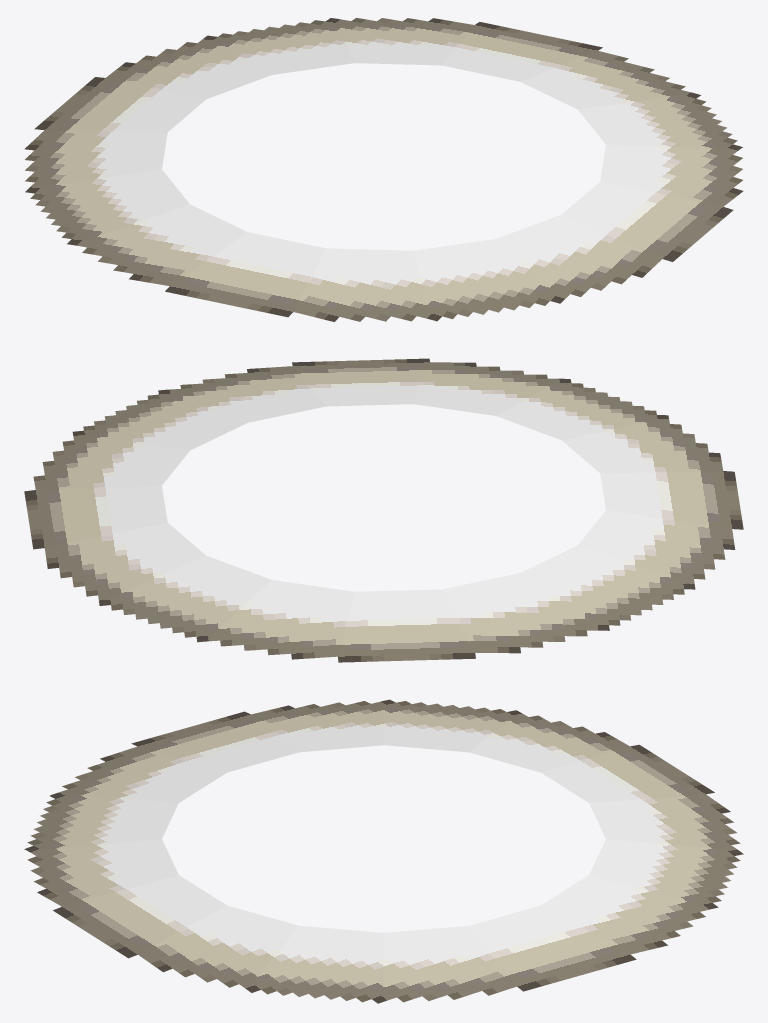
The model's file is psx_pickup_marker.glb.
3 renders of one model, top to bottom at view 1: azimuth 30°, elevation 25°; view 2: azimuth 150°, elevation 25°; view 3: azimuth 270°, elevation 25°, orthographic.
Parts seen in each view (by area): view 1: pickup_marker; view 2: pickup_marker; view 3: pickup_marker.
Boxes of the visible parts, x1,y1,x2,y2 form: pickup_marker: [24, 18, 743, 321]; pickup_marker: [24, 358, 743, 662]; pickup_marker: [24, 699, 743, 1003].
Size of the model in its own units: 0.5 by 0.01 by 0.5.
1 material, 1 textured.
